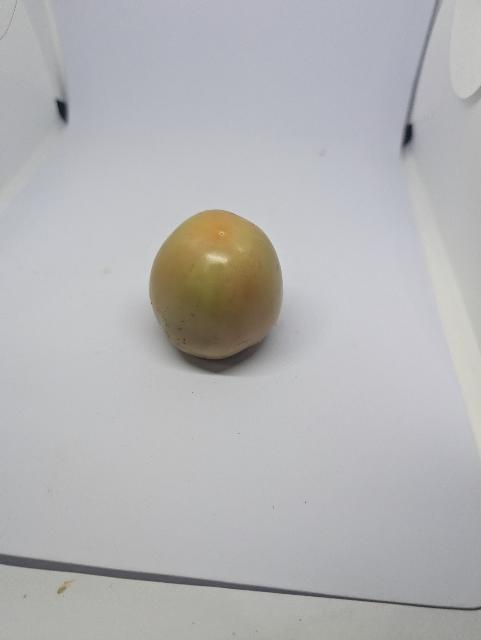breaker: (133, 201, 297, 368)
